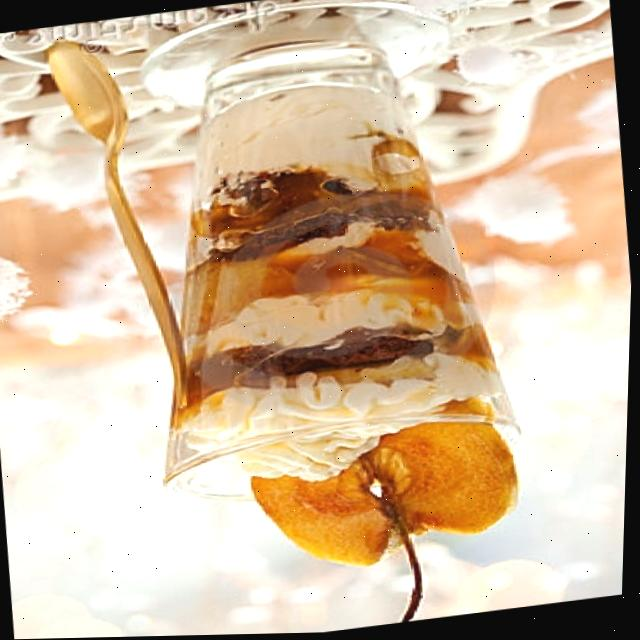蛋糕甜品: (106, 0, 576, 611)
